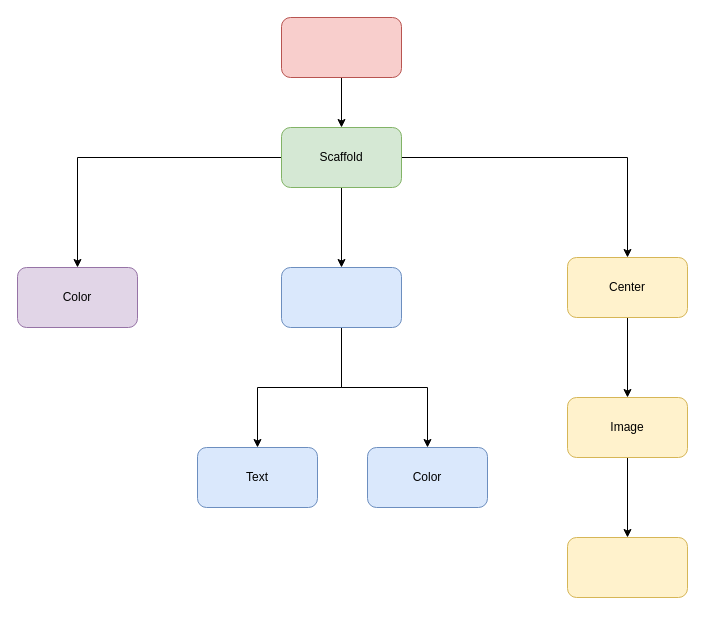
This 705x623 diagram has some shape labels left out. The centre of each missing label's shape, as x and y in pixels:
"AppBar" goes at (x=341, y=297).
"Assets Image" goes at (x=627, y=567).
"Matrial App" goes at (x=341, y=47).
